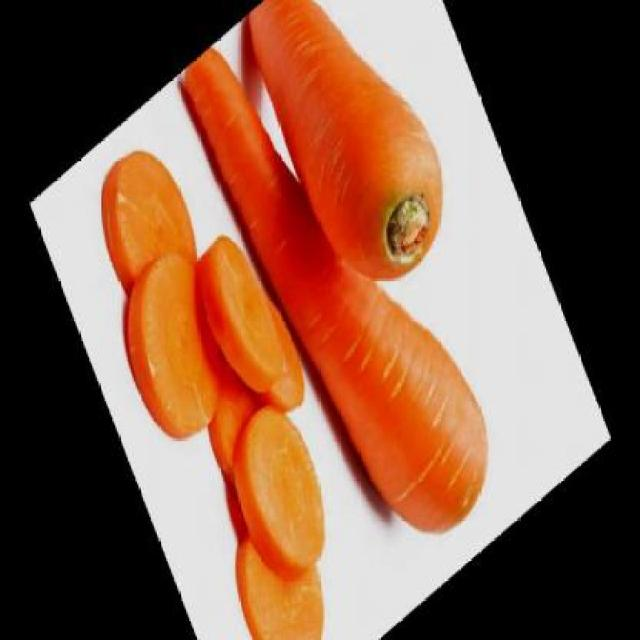carrot: (178, 0, 509, 595), (234, 0, 466, 325)
